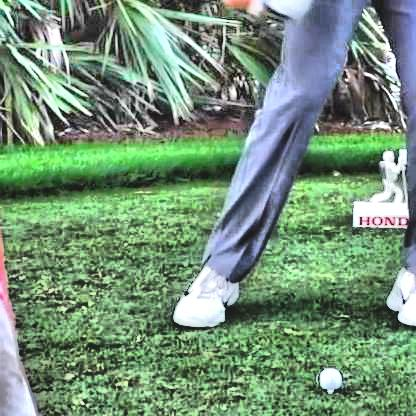golfball: (314, 366, 341, 390)
